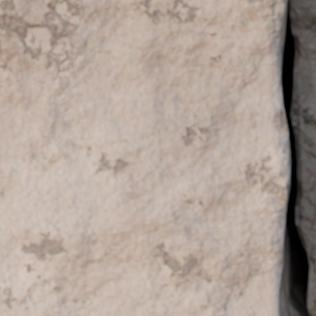brick: (0, 0, 289, 315)
crack: (280, 1, 315, 315)
